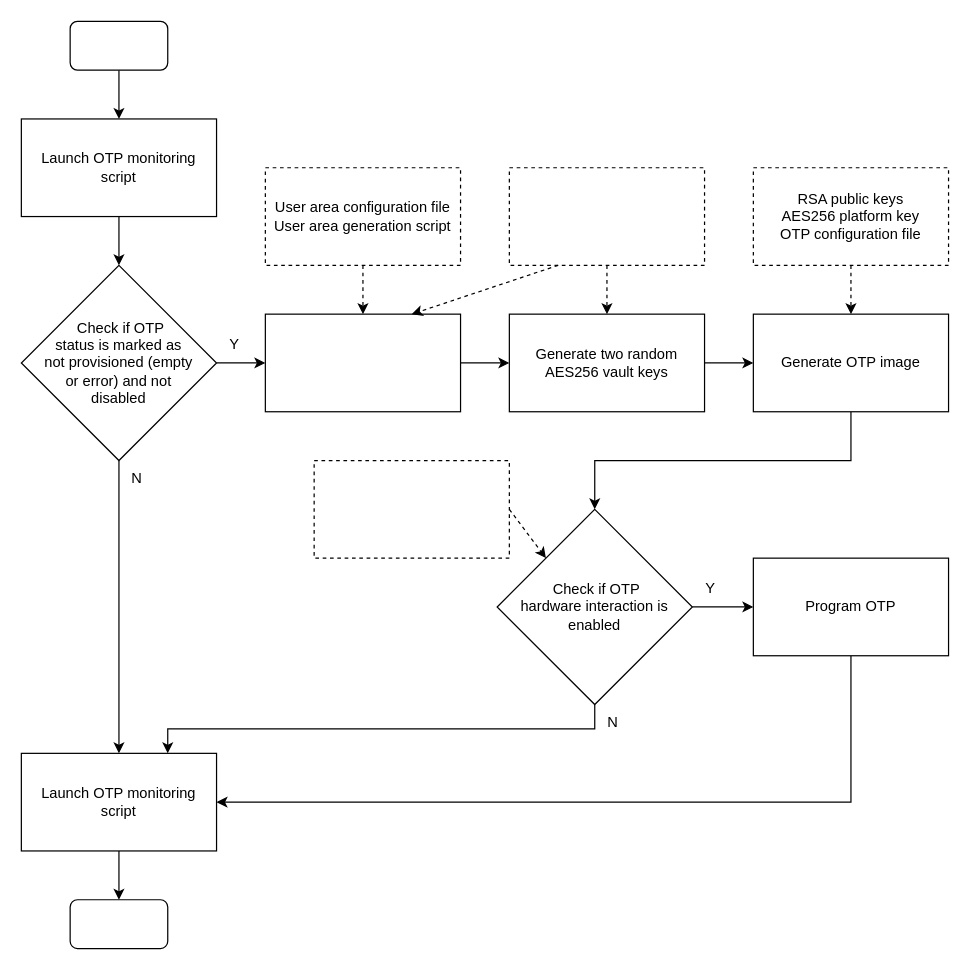
The diagram is 970 pixels wide and 970 high, and some of its shapes have lost their labels. The centre of each missing label's shape, as x and y in pixels:
"End" belongs at point 118,924.
"Generate user area with random contents" belongs at point 362,362.
"Hardware random number generator via /dev/urandom" belongs at point 606,216.
"OTP_HW_ENABLED variable in /etc/sysconfig/otp-conf" belongs at point 411,508.
"Start" belongs at point 118,45.
